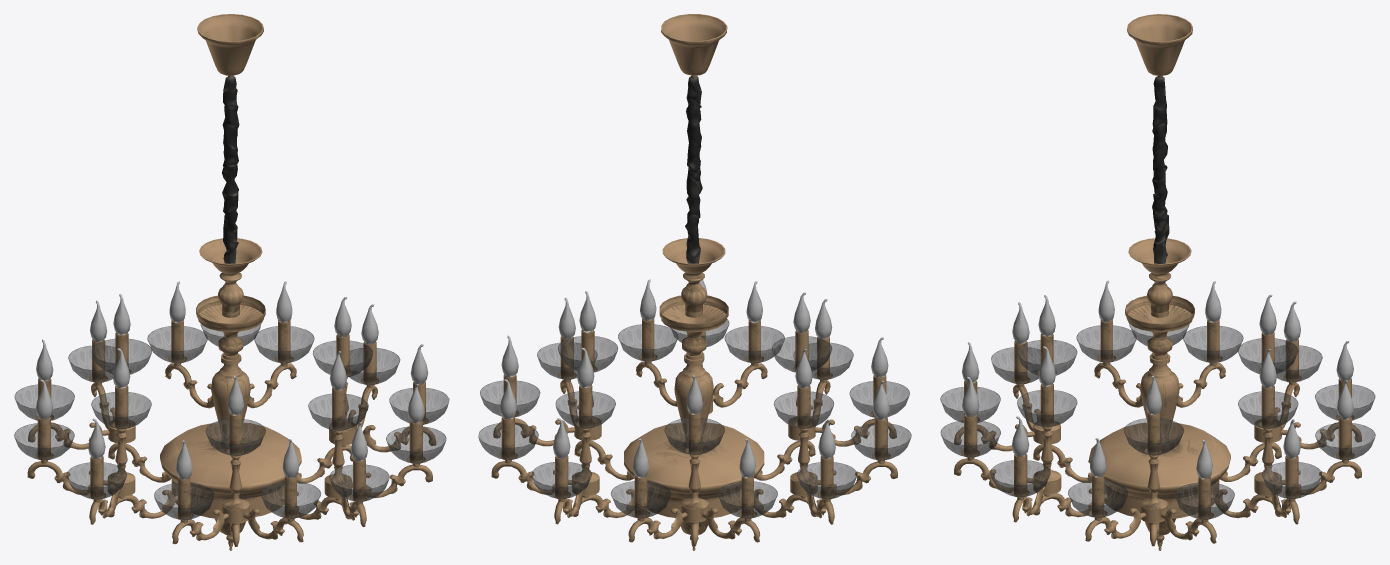
Rendered from Chandelier_03_lod0.glb.
The picture shows the model from 3 angles, left to right: view 1: azimuth 30°, elevation 25°; view 2: azimuth 150°, elevation 25°; view 3: azimuth 270°, elevation 25°; orthographic projection.
Visible parts, largest first — view 1: Chandelier_03; view 2: Chandelier_03; view 3: Chandelier_03.
Boxes of the visible parts, x1,y1,x2,y2 form: Chandelier_03: (14,14,449,550); Chandelier_03: (478,14,911,550); Chandelier_03: (940,14,1375,550).
Bounding box in the file's own units: 0.7804 × 1.04 × 0.7855.
Materials: 2 (2 with a texture image).
